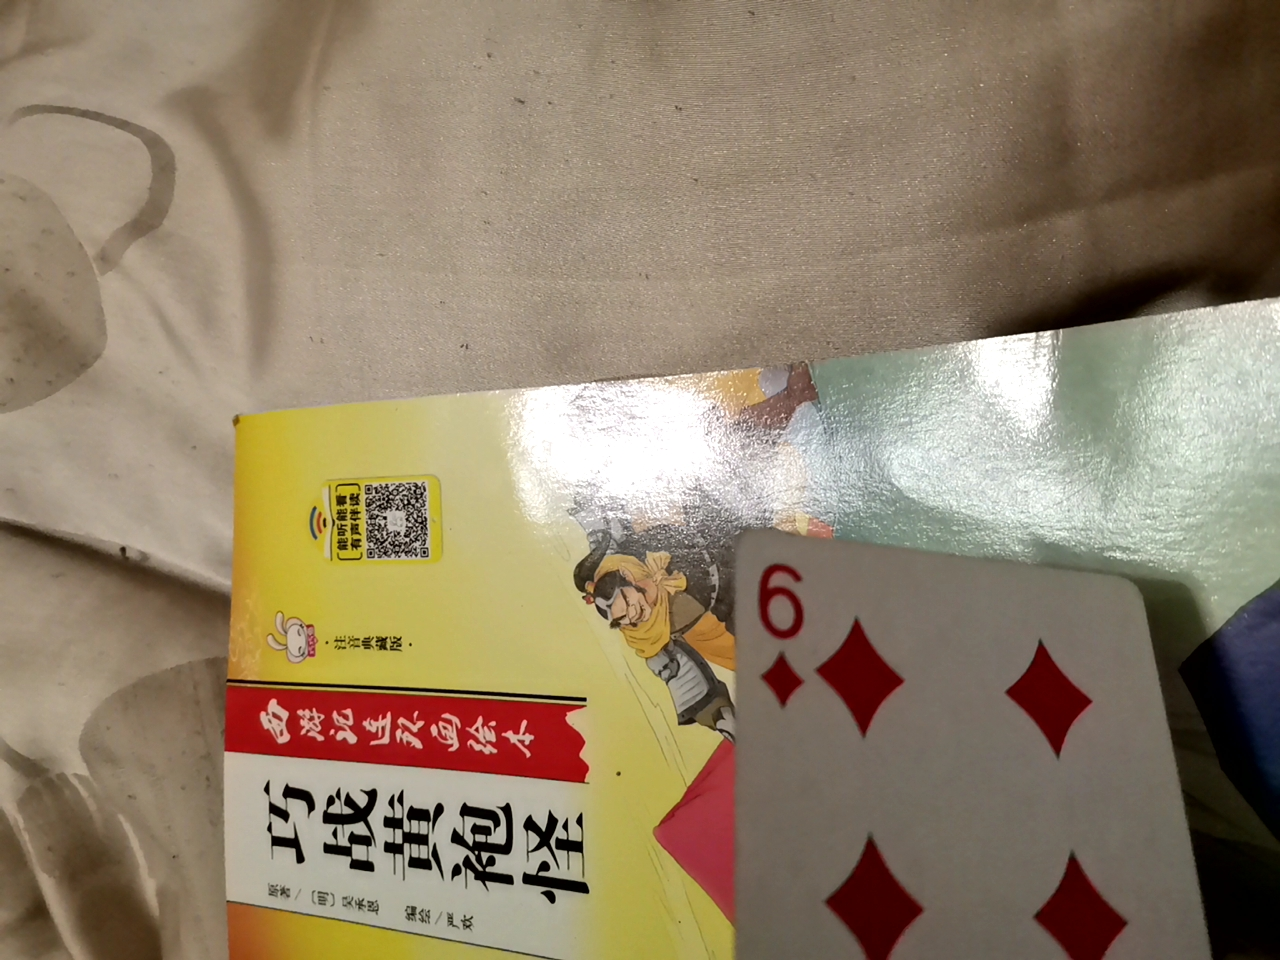fk 6: (695, 484, 1191, 959)
